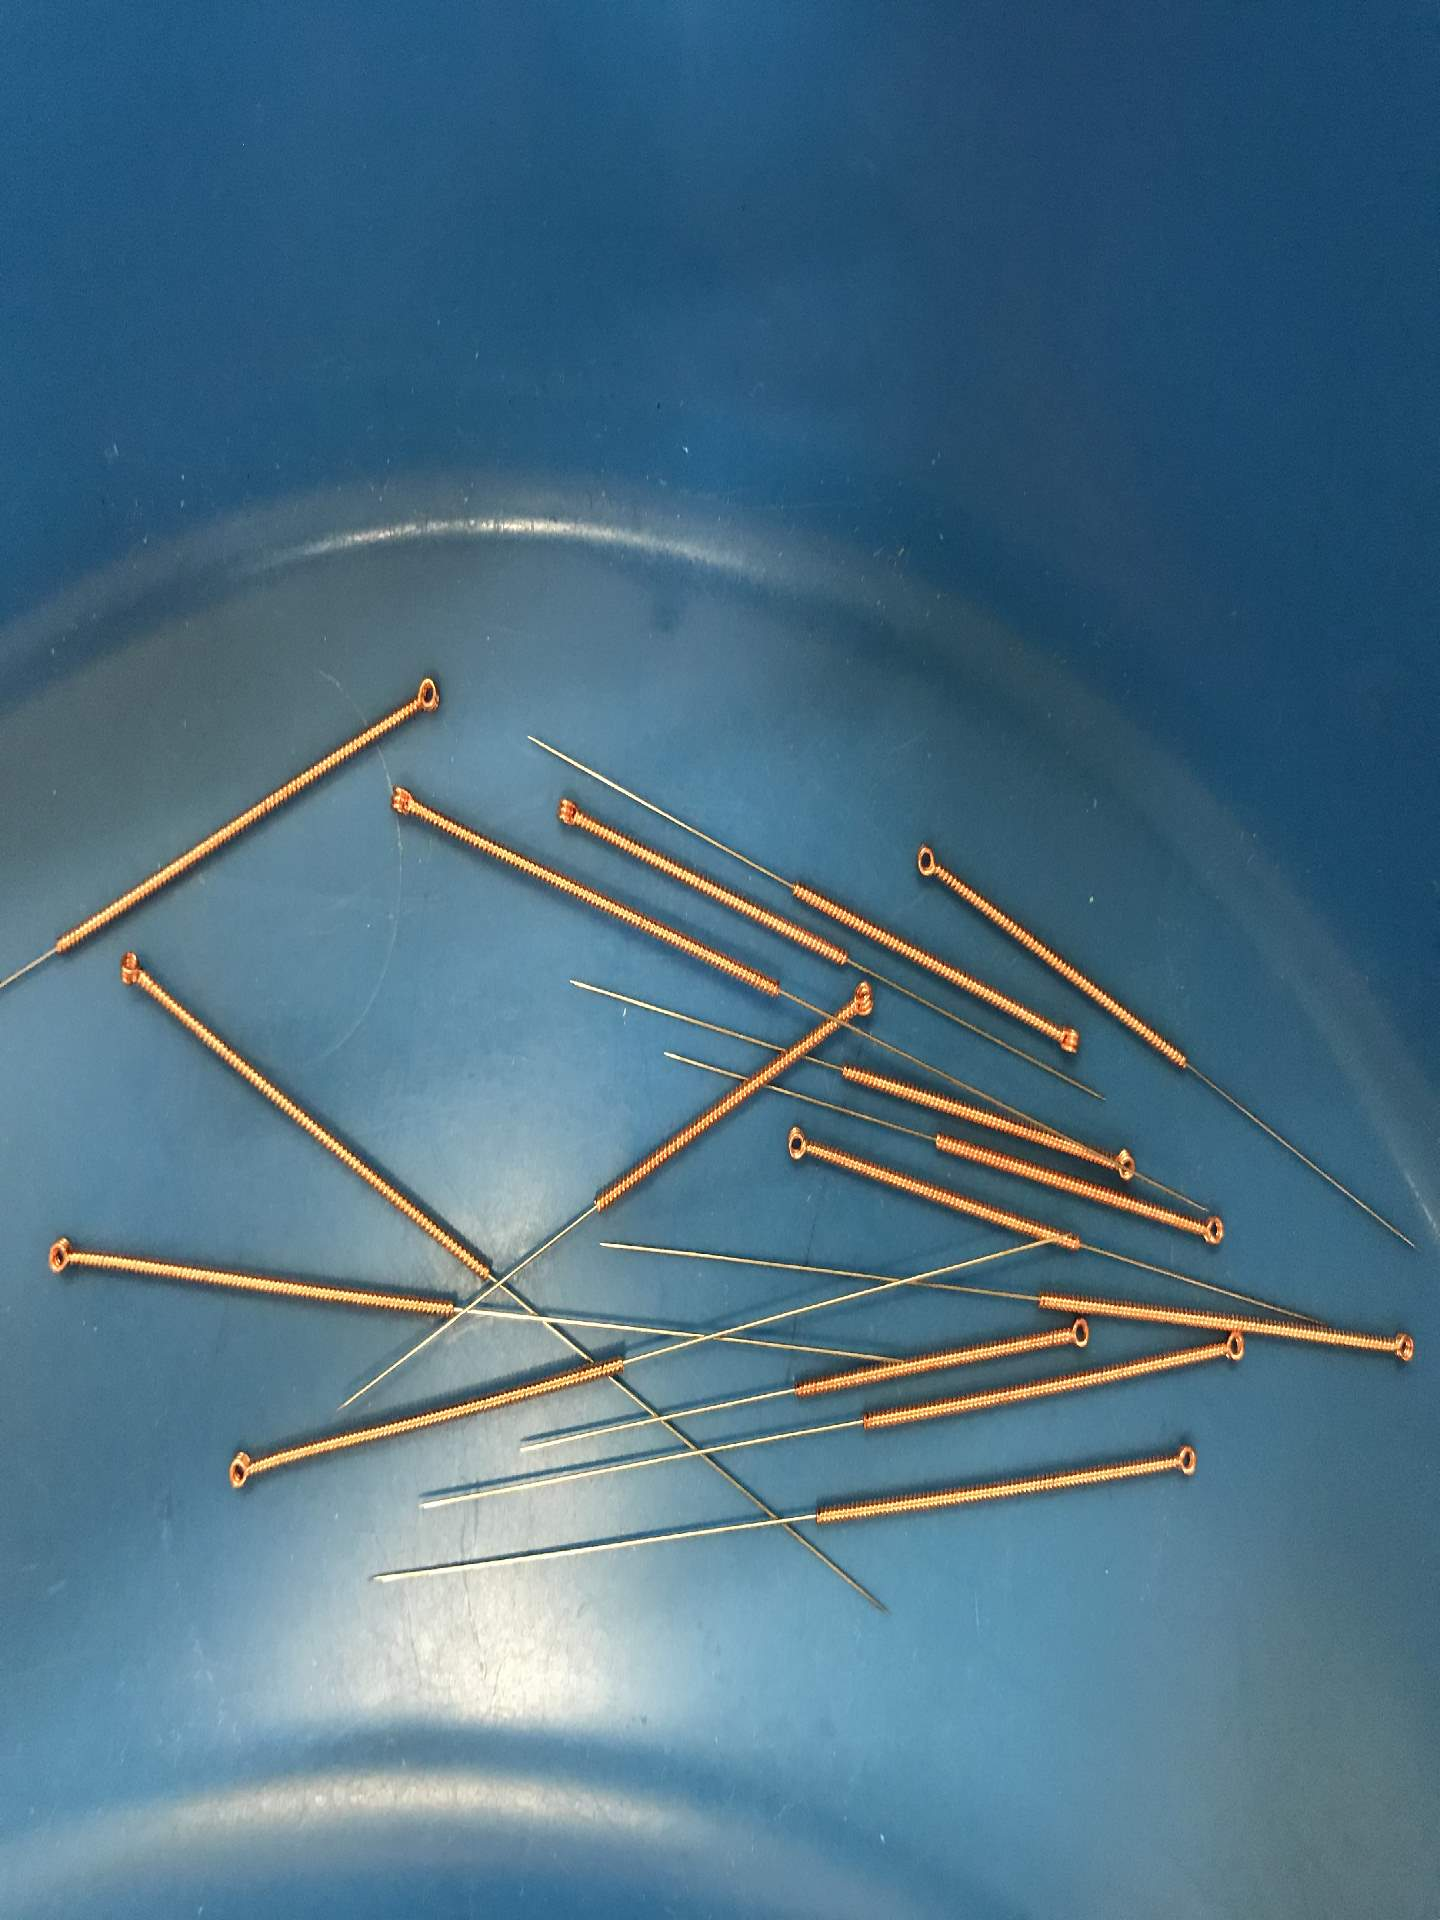needle: (1364, 1318, 1429, 1376), (1154, 1432, 1209, 1491), (33, 1228, 88, 1285), (377, 774, 433, 828), (104, 942, 157, 999), (776, 1116, 824, 1178), (1183, 1203, 1237, 1258), (399, 665, 452, 721), (902, 831, 948, 890), (1041, 1013, 1094, 1064), (213, 1447, 266, 1498), (830, 977, 883, 1023), (546, 788, 591, 839), (1098, 1141, 1147, 1188), (1207, 1327, 1257, 1373), (1057, 1314, 1100, 1355)
